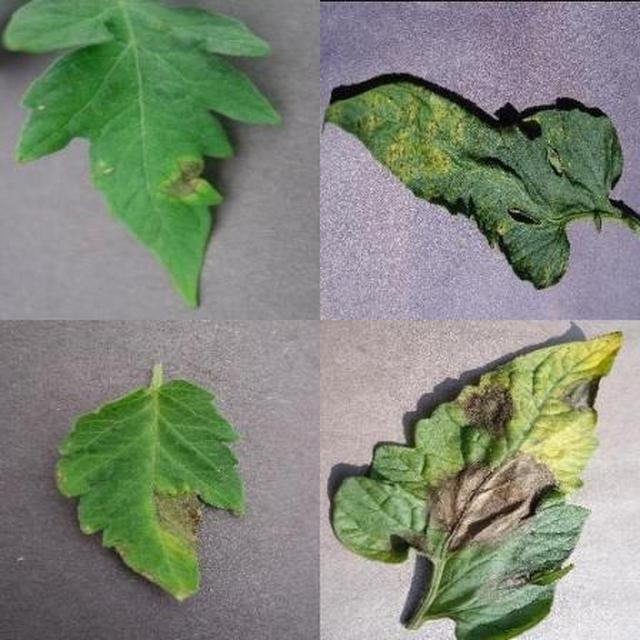Late Blight Leaf: (205, 222, 640, 640)
